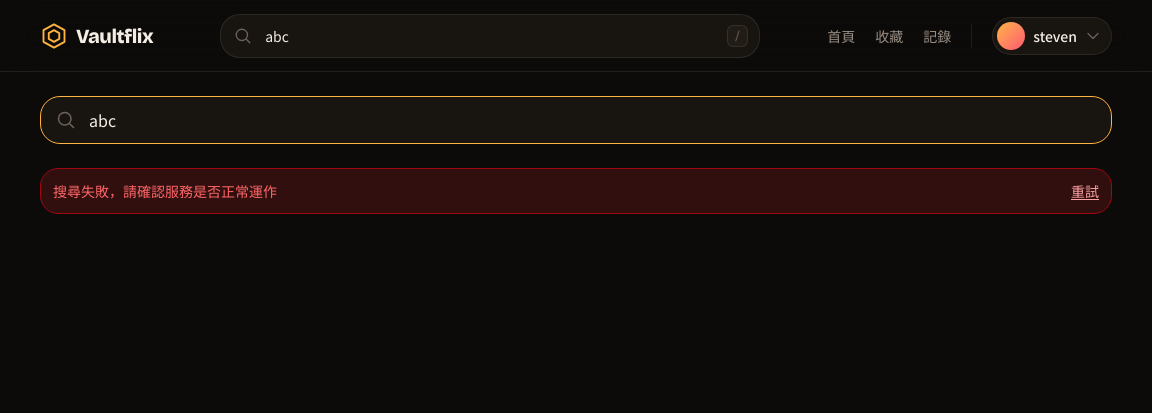
Test: SearchPage › says the search failed instead of showing no results, and retries
Expected: the message shows "搜尋失敗", [53,181,277,201]
Expected: the text "沒有符合" is not shown
Click the button "重試": (1085, 191) [1071,181,1099,201]
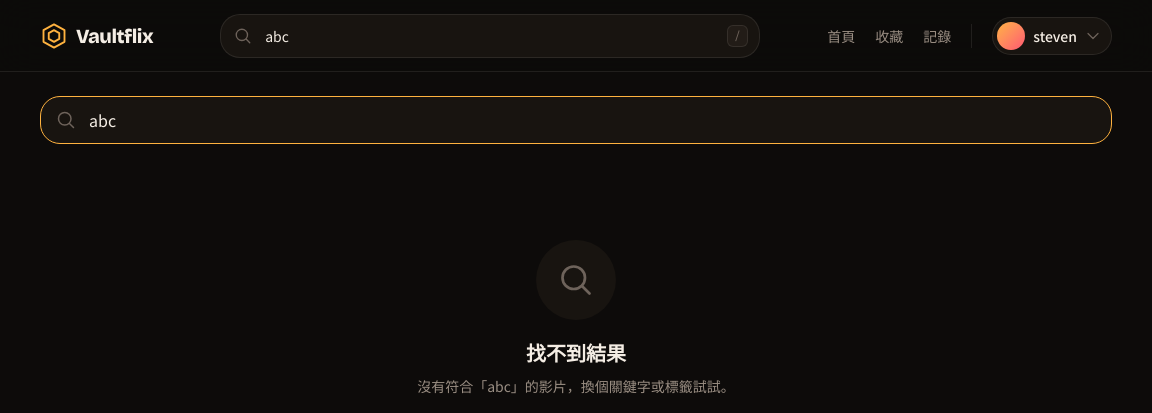
Expected: the text "沒有符合「abc」的影片，換個關鍵字或標籤試試。" is shown, [417,376,735,396]
